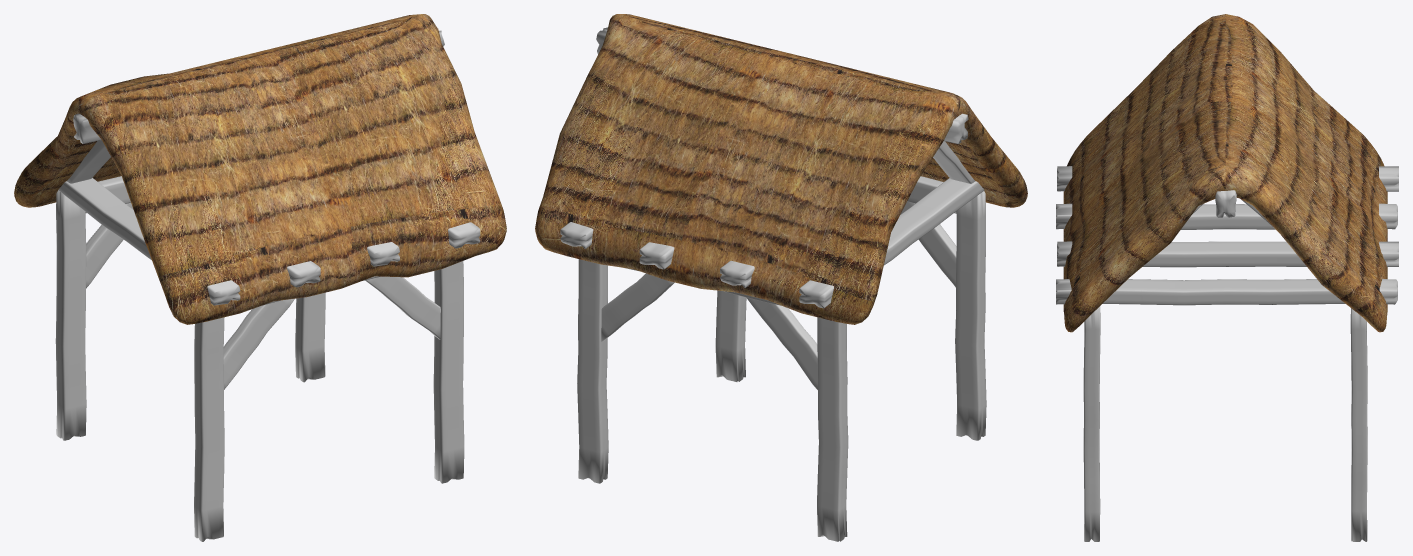
Rendered from Hut_Objects.fbx.
3 renders of one model, left to right at view 1: azimuth 30°, elevation 25°; view 2: azimuth 150°, elevation 25°; view 3: azimuth 270°, elevation 25°, orthographic. The views are drawn at different scales.
Parts seen in each view (by area): view 1: Cube, plank.002, plank.003, plank, plank.005, plank.001, plank.009, plank.011, plank.008, plank.021, plank.013, plank.004 (+1 smaller); view 2: Cube, plank.003, plank.002, plank.001, plank.005, plank, plank.008, plank.010, plank.009, plank.020, plank.012, plank.013 (+2 smaller); view 3: Cube, plank.004, plank.012, plank.001, plank, plank.013, plank.005, plank.022.
Part boxes in pixels (x1=…): Cube: x1=14, y1=14, x2=506, y2=324; plank.002: x1=55, y1=190, x2=86, y2=440; plank.003: x1=194, y1=317, x2=224, y2=541; plank: x1=433, y1=261, x2=464, y2=483; plank.005: x1=58, y1=178, x2=240, y2=305; plank.001: x1=295, y1=292, x2=325, y2=382; plank.009: x1=223, y1=298, x2=294, y2=389; plank.011: x1=365, y1=276, x2=440, y2=339; plank.008: x1=86, y1=202, x2=132, y2=288; plank.021: x1=67, y1=140, x2=110, y2=183; plank.013: x1=287, y1=261, x2=320, y2=287; plank.004: x1=448, y1=222, x2=480, y2=248; Cube: x1=535, y1=14, x2=1027, y2=324; plank.003: x1=955, y1=191, x2=986, y2=440; plank.002: x1=817, y1=317, x2=848, y2=541; plank.001: x1=577, y1=259, x2=608, y2=483; plank.005: x1=799, y1=178, x2=984, y2=308; plank: x1=715, y1=290, x2=746, y2=381; plank.008: x1=746, y1=297, x2=817, y2=389; plank.010: x1=601, y1=273, x2=674, y2=341; plank.009: x1=900, y1=201, x2=956, y2=287; plank.020: x1=933, y1=141, x2=975, y2=183; plank.012: x1=639, y1=242, x2=674, y2=269; plank.013: x1=720, y1=260, x2=754, y2=287; Cube: x1=1063, y1=14, x2=1387, y2=332; plank.004: x1=1056, y1=279, x2=1397, y2=305; plank.012: x1=1057, y1=241, x2=1398, y2=267; plank.001: x1=1350, y1=308, x2=1367, y2=541; plank: x1=1083, y1=306, x2=1100, y2=541; plank.013: x1=1056, y1=203, x2=1397, y2=229; plank.005: x1=1057, y1=166, x2=1398, y2=191; plank.022: x1=1215, y1=190, x2=1236, y2=217.
Bounding box in the file's own units: 905 × 965 × 770.
